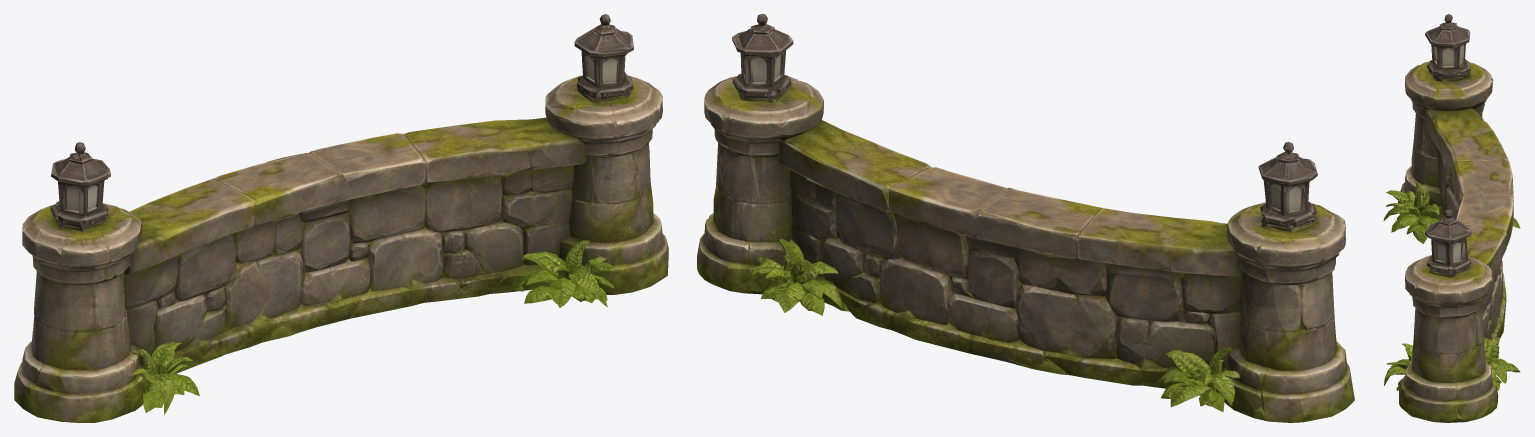
The model's file is ARC-005.glb.
3 renders of one model, left to right at view 1: azimuth 30°, elevation 25°; view 2: azimuth 150°, elevation 25°; view 3: azimuth 270°, elevation 25°, orthographic. The views are drawn at different scales.
Parts seen in each view (by area): view 1: ARC-005; view 2: ARC-005; view 3: ARC-005.
Boxes of the visible parts, box(x1,y1,x2,y2) form: ARC-005: box(14, 14, 668, 422); ARC-005: box(697, 14, 1354, 422); ARC-005: box(1383, 14, 1520, 422).
Bounding box in the file's own units: 3.96 × 1.5 × 0.9662.
1 material, 1 textured.
